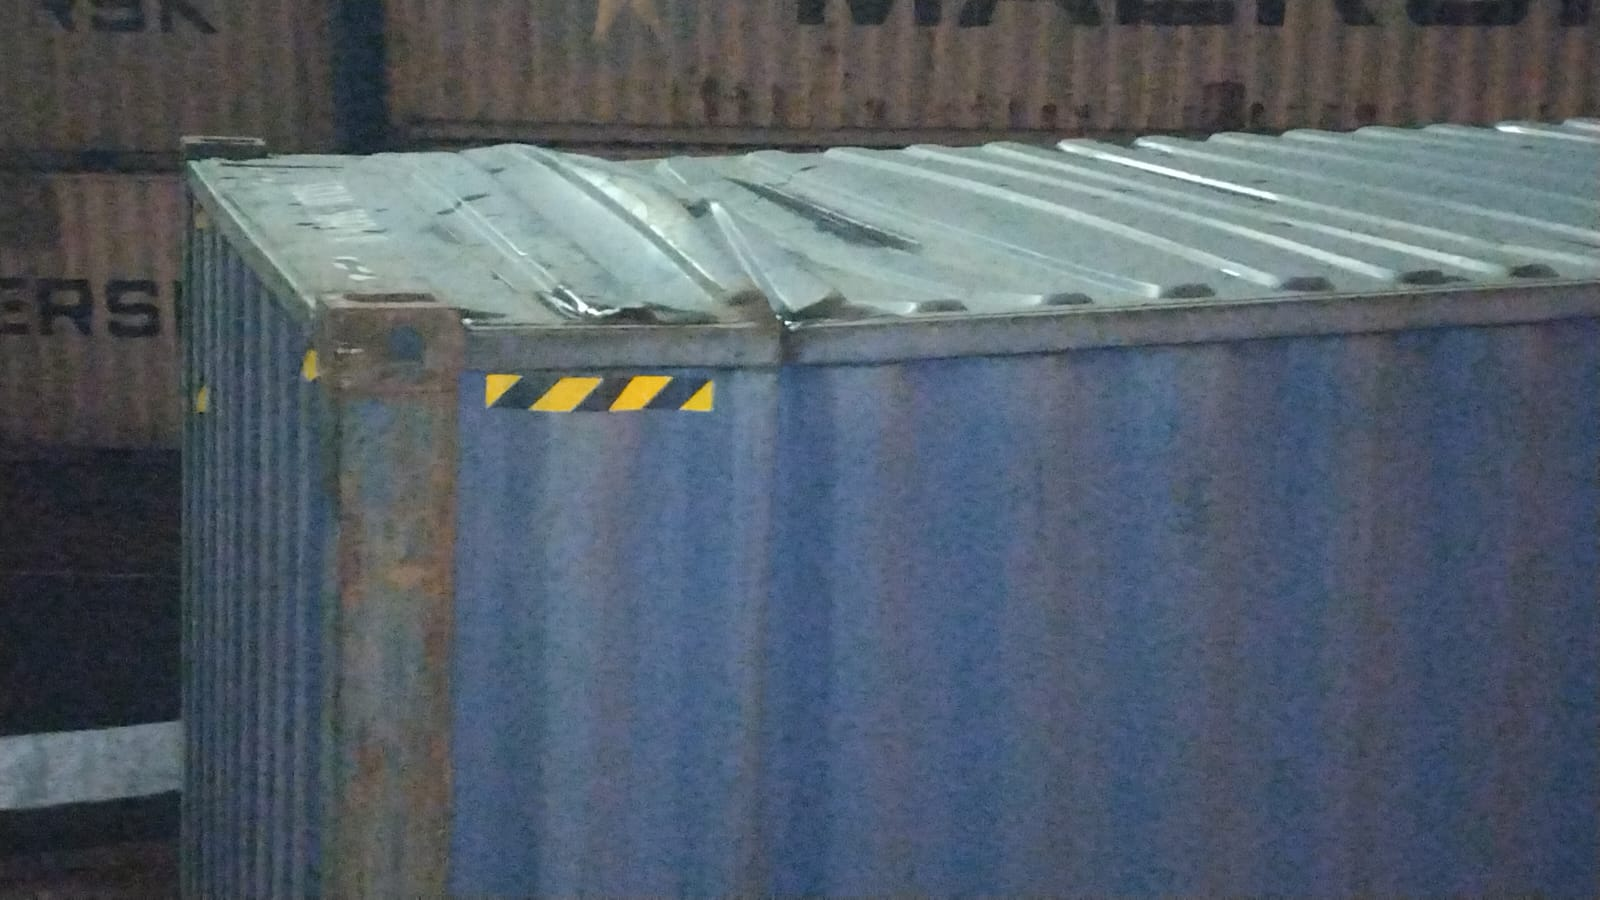bulged: (437, 135, 890, 323)
